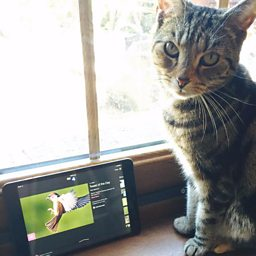cat: (151, 1, 255, 249)
